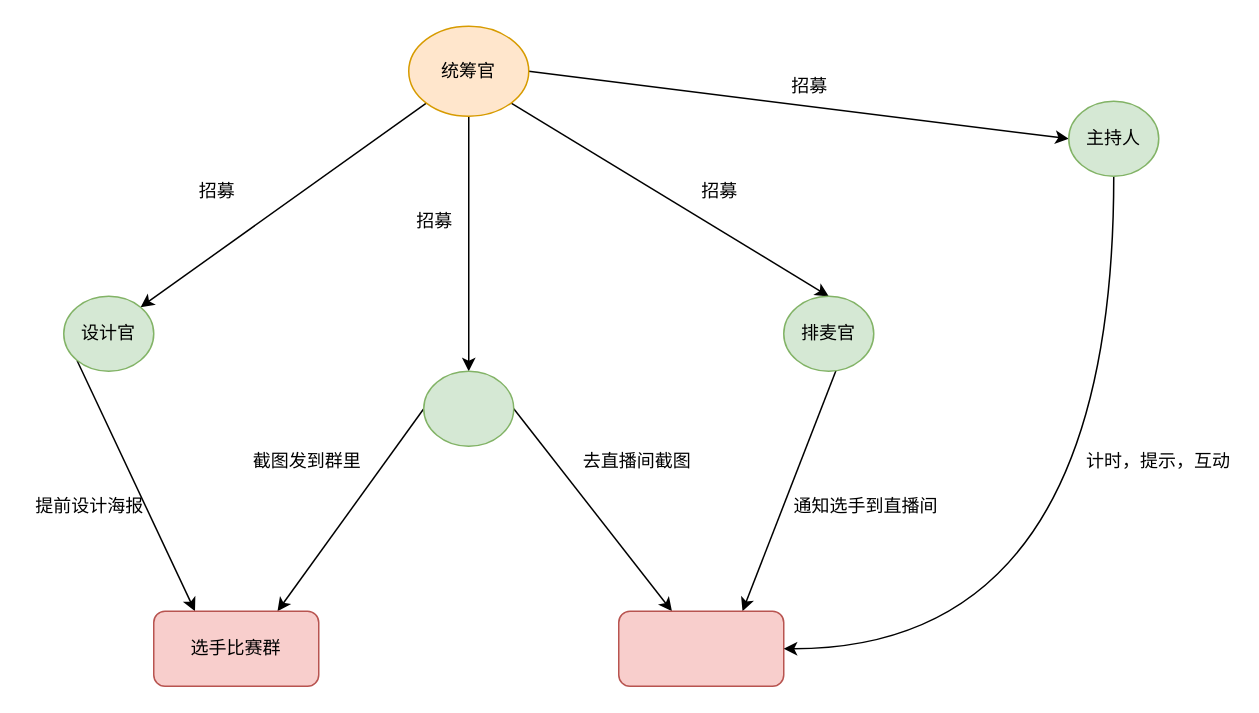
Some shapes in this 1259 by 713 pixel diagram are drawn without their labels. Each missing label, with the centre of its shape:
"截屏官" goes at (x=468, y=408).
"选手直播间" goes at (x=700, y=648).
